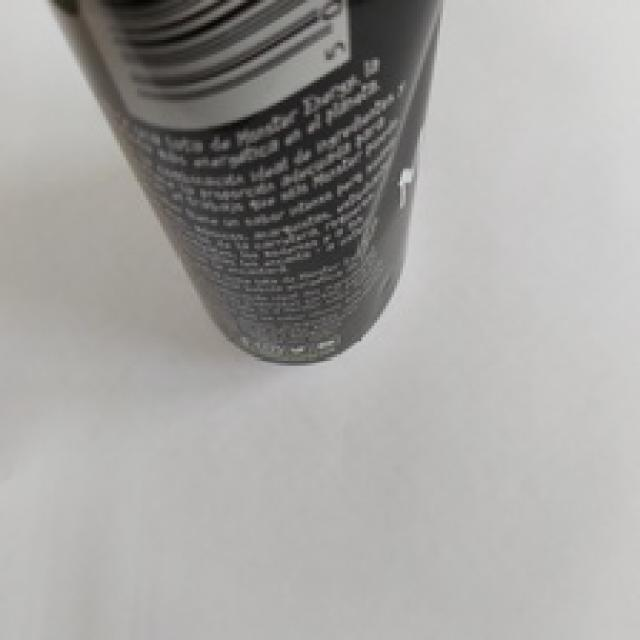recyclable: (48, 0, 443, 367)
